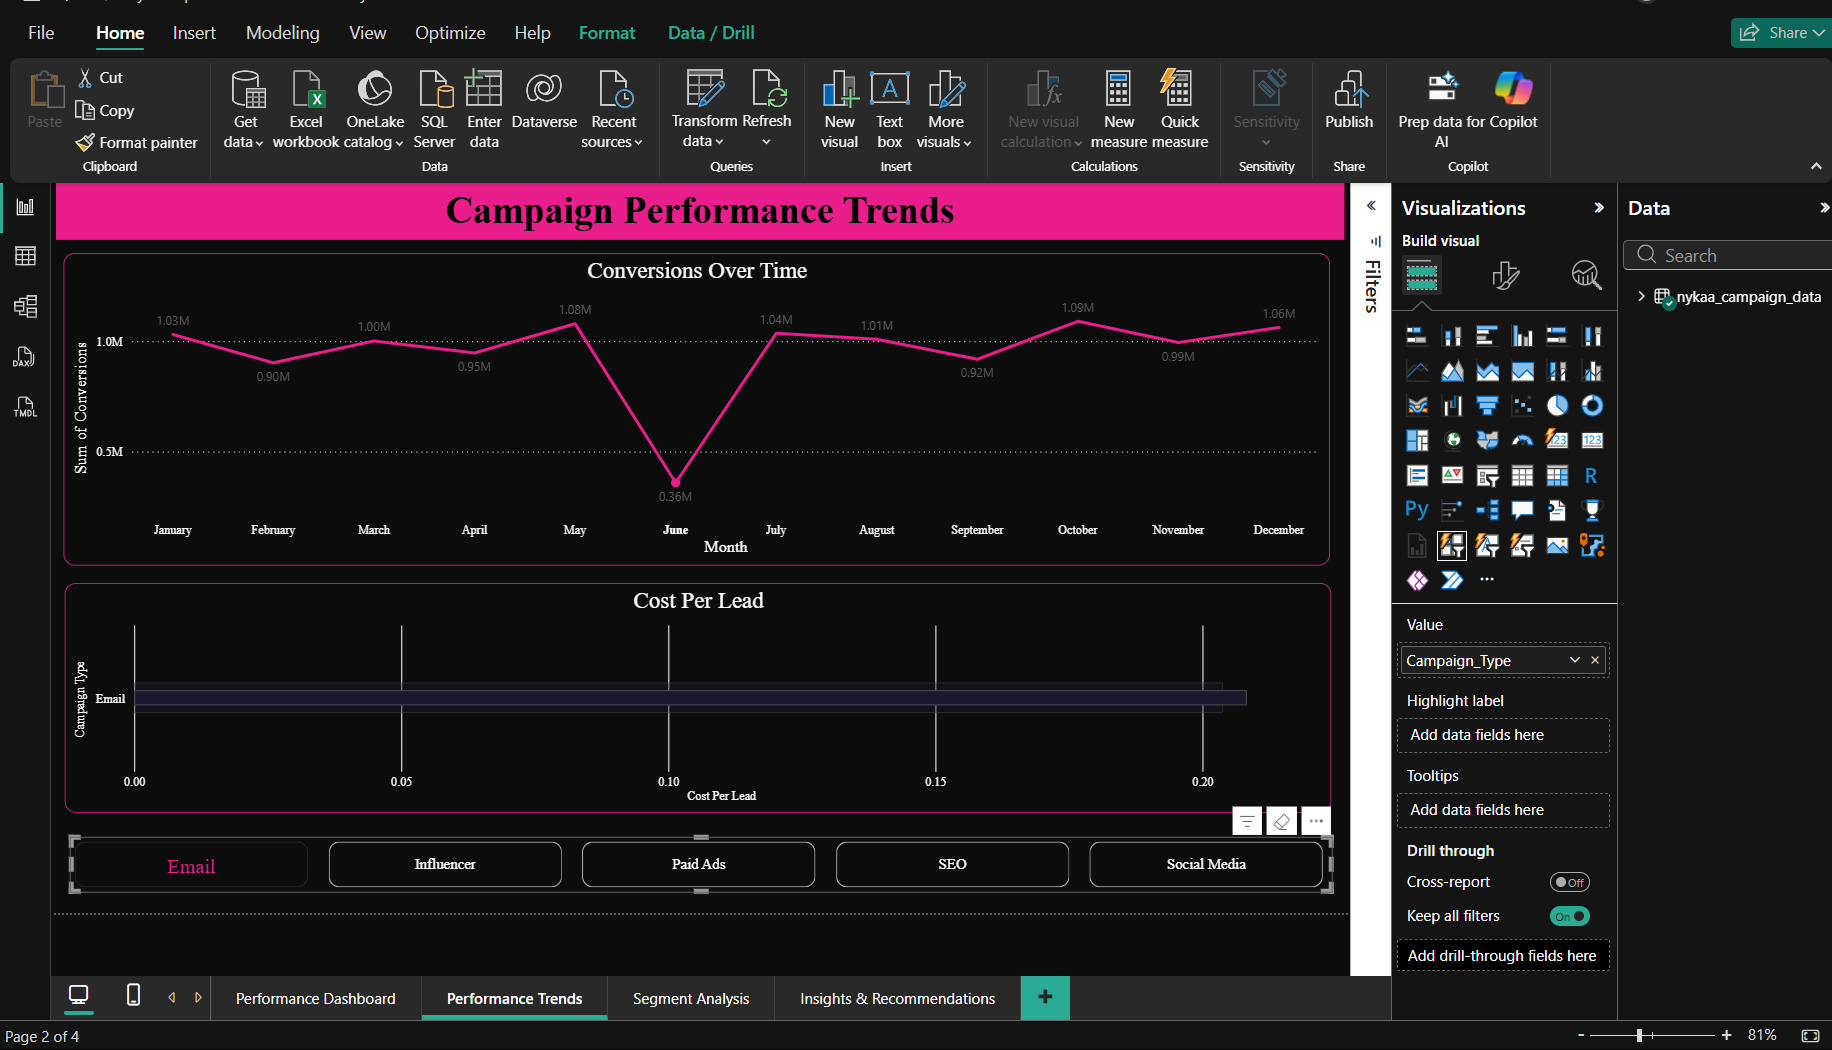

This screenshot's page, from the dashboard's own definition file:
{"tool":"powerbi","page":{"name":"Performance Trends","canvas":[1280,720],"ordinal":1},"visuals":[{"type":"lineChart","title":"Conversions Over Time","fields":{"Y":["Sum(nykaa_campaign_data.Conversions)"],"Category":["nykaa_campaign_data.Date.Variation.Date Hierarchy.Month"]},"box":[12.3,69,1247.7,307.9],"z":0},{"type":"textbox","box":[5.3,0,1269.4,55.8],"z":1000},{"type":"clusteredBarChart","title":"Cost Per Lead","fields":{"Category":["nykaa_campaign_data.Campaign_Type"],"Y":["nykaa_campaign_data.Cost Per Lead"]},"box":[13.5,394.2,1247.7,226.6],"z":2000},{"type":"advancedSlicerVisual","title":"Campaign Type","fields":{"Values":["nykaa_campaign_data.Campaign_Type"]},"box":[18.5,644.2,1244,55.4],"z":3000}]}

Visuals, with their boxes on the page's 1280x720 design canvas (x1, y1, x2, y2). These are canvas units, not pixel positions in the 1832x1050 screenshot, which may show the page scaled, cropped or inside an application window:
"Conversions Over Time" lineChart: <bbox>12, 69, 1260, 377</bbox>
textbox: <bbox>5, 0, 1275, 56</bbox>
"Cost Per Lead" clusteredBarChart: <bbox>14, 394, 1261, 621</bbox>
"Campaign Type" advancedSlicerVisual: <bbox>18, 644, 1262, 700</bbox>
